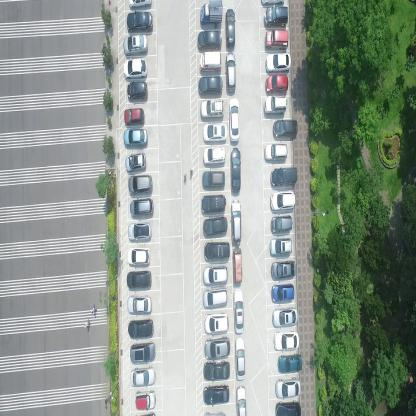car: (204, 336, 230, 361), (202, 383, 230, 406), (199, 0, 223, 26), (270, 165, 298, 187), (203, 360, 231, 382), (126, 11, 154, 33), (263, 6, 289, 29), (269, 190, 296, 212), (230, 146, 242, 194), (233, 287, 245, 335), (272, 118, 298, 140), (122, 34, 148, 56), (122, 57, 148, 79), (130, 342, 156, 364), (271, 306, 298, 327), (265, 27, 289, 50), (230, 196, 242, 242), (200, 97, 224, 120), (266, 52, 291, 74), (271, 260, 296, 282), (197, 30, 222, 52), (204, 241, 230, 262), (122, 127, 148, 148), (126, 294, 152, 315), (127, 320, 154, 340), (127, 245, 151, 267), (126, 269, 151, 290), (130, 366, 155, 387), (273, 330, 299, 350), (203, 314, 229, 334), (224, 52, 236, 95), (274, 378, 301, 397), (127, 175, 154, 194), (265, 73, 288, 95), (264, 94, 287, 116), (235, 336, 246, 382), (264, 142, 288, 163), (271, 283, 295, 304), (128, 222, 152, 243), (202, 122, 227, 142), (203, 216, 228, 236), (229, 96, 240, 141), (200, 195, 226, 214), (202, 266, 228, 285), (225, 7, 236, 51), (278, 354, 302, 374), (203, 288, 227, 308), (129, 198, 154, 217), (126, 80, 148, 101), (202, 169, 225, 189), (134, 390, 157, 410), (198, 76, 223, 94), (270, 214, 292, 234), (270, 236, 292, 256), (232, 246, 243, 286), (124, 106, 146, 126), (199, 53, 222, 72), (125, 153, 147, 172), (202, 146, 225, 164), (275, 400, 302, 415), (236, 384, 247, 416), (128, 0, 152, 10)
